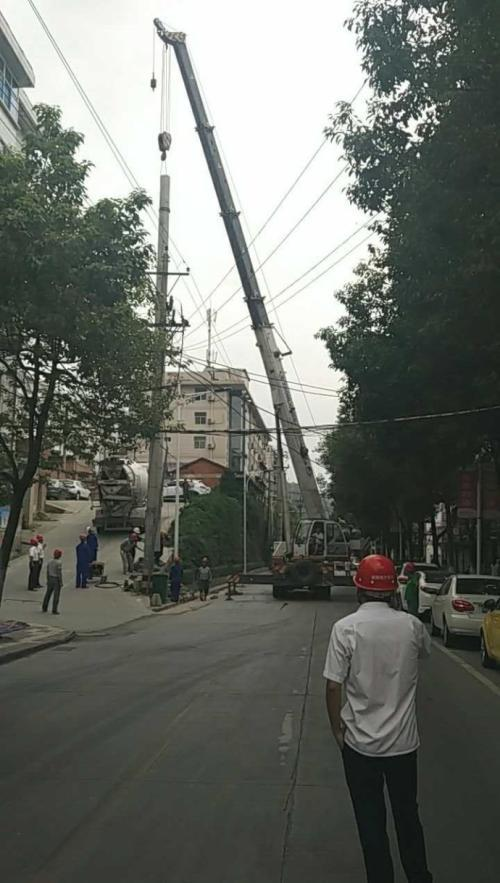helmet: (350, 547, 401, 600)
